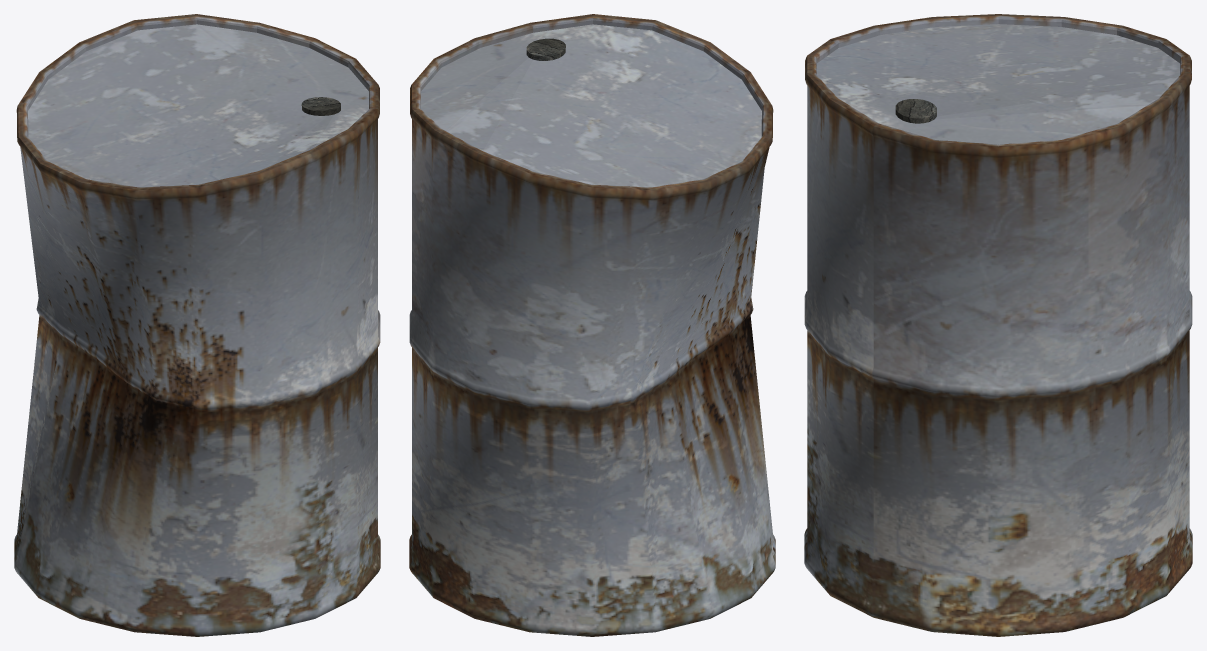
The model's file is barrel2.FBX.
The picture shows the model from 3 angles, left to right: view 1: azimuth 30°, elevation 25°; view 2: azimuth 150°, elevation 25°; view 3: azimuth 270°, elevation 25°; orthographic projection. The views are drawn at different scales.
Parts seen in each view (by area): view 1: Cylinder001; view 2: Cylinder001; view 3: Cylinder001.
Boxes of the visible parts, x1,y1,x2,y2 form: Cylinder001: (14, 14, 380, 636); Cylinder001: (409, 14, 775, 636); Cylinder001: (804, 14, 1192, 636).
Size of the model in its own units: 34.07 by 47.31 by 33.56.
